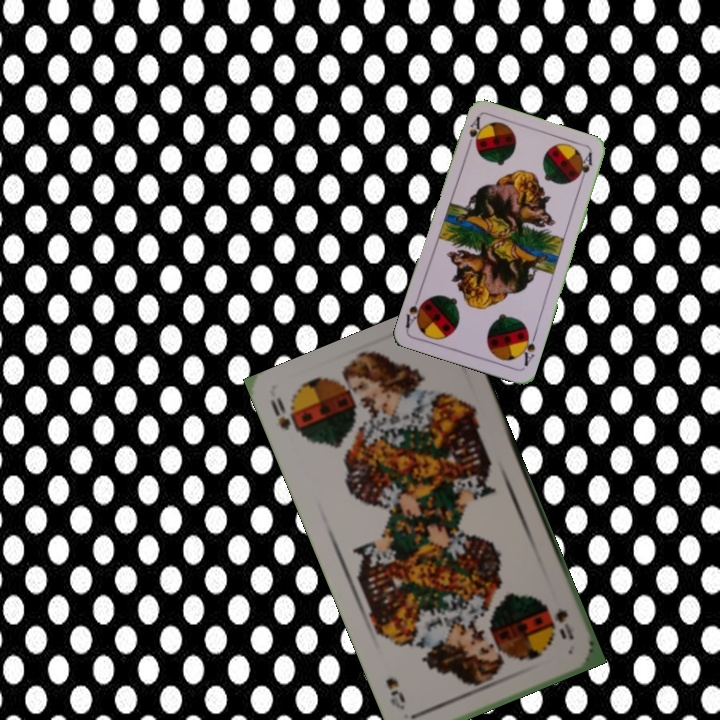SA: (516, 328, 539, 369), (463, 113, 484, 153)
SO: (266, 392, 293, 433), (551, 605, 577, 643)
